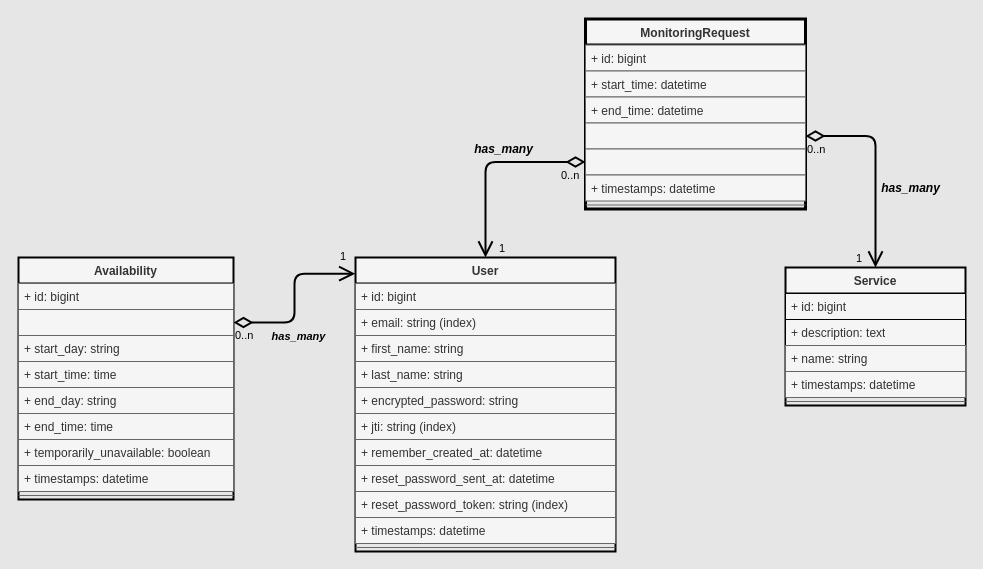
The diagram is 983 pixels wide and 569 high, and some of its shapes have lost their labels. Here are the shapes that lost their labels. From the top down, the centre of each, then its label:
the point at 695,135: + service_id: bigint (reference)
the point at 695,161: + user_id : bigint (reference, optional)
the point at 126,322: + user_id: bigint (reference)
